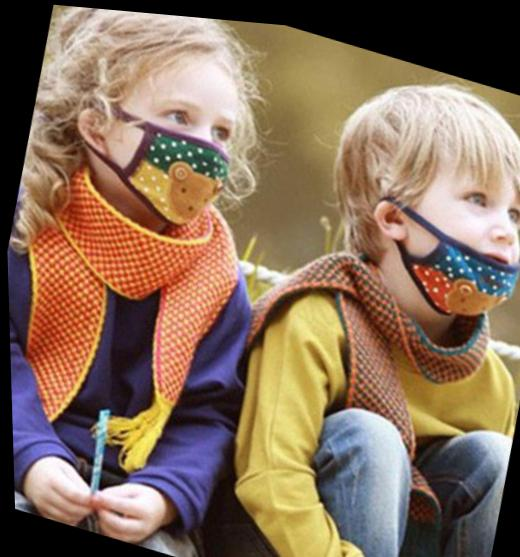OK: (107, 76, 250, 226)
WRONG: (390, 151, 520, 308)
